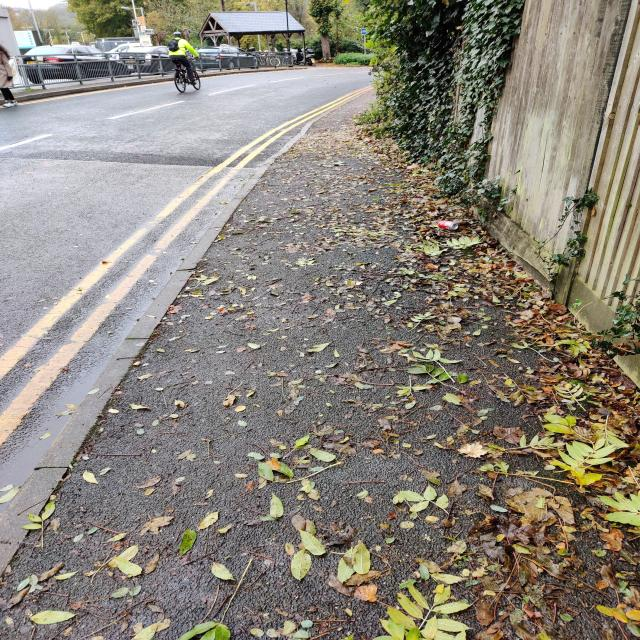litter: (437, 220, 458, 230)
